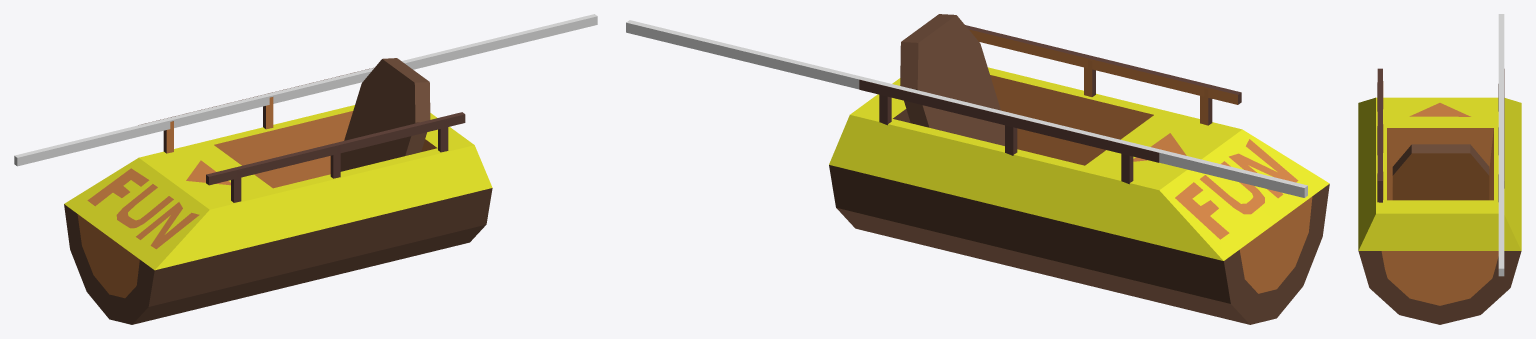
Rendered from flumeLog.fbx.
The picture shows the model from 3 angles, left to right: view 1: azimuth 30°, elevation 25°; view 2: azimuth 150°, elevation 25°; view 3: azimuth 270°, elevation 25°; orthographic projection. The views are drawn at different scales.
Parts seen in each view (by area): view 1: Cylinder, Cube.002, Cube, Cube.006; view 2: Cylinder, Cube.006, Cube, Cube.002; view 3: Cylinder, Cube, Cube.002, Cube.006.
Part boxes in pixels (box(x1,y1,x2,y2)): Cylinder: box(64, 105, 492, 324); Cube.002: box(14, 14, 597, 166); Cube: box(340, 58, 430, 171); Cube.006: box(138, 67, 465, 202); Cylinder: box(829, 67, 1329, 324); Cube.006: box(859, 25, 1241, 184); Cube: box(900, 14, 1004, 145); Cube.002: box(626, 20, 1307, 197); Cylinder: box(1358, 97, 1521, 324); Cube: box(1392, 144, 1489, 200); Cube.002: box(1498, 14, 1504, 276); Cube.006: box(1377, 68, 1504, 202).
Bounding box in the file's own units: 200 × 58.43 × 54.15.
